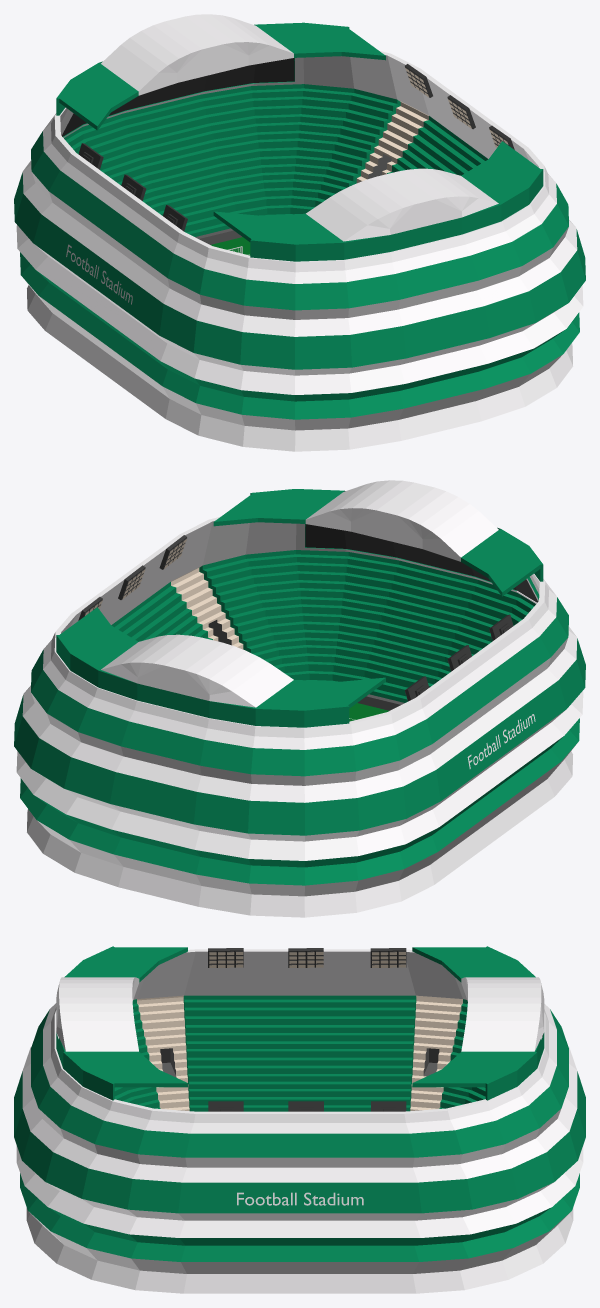
File: stadeSansCage.glb
3 renders of one model, top to bottom at view 1: azimuth 30°, elevation 25°; view 2: azimuth 150°, elevation 25°; view 3: azimuth 270°, elevation 25°, orthographic. The views are drawn at different scales.
Parts seen in each view (by area): view 1: Football Stadium; view 2: Football Stadium; view 3: Football Stadium, Object.004_Color_0, Object.005_Color_0, Object.006_Color_0.
Part boxes in pixels (x1=…): Football Stadium: x1=14, y1=14, x2=585, y2=451; Football Stadium: x1=14, y1=480, x2=585, y2=917; Football Stadium: x1=14, y1=946, x2=585, y2=1293; Object.004_Color_0: x1=370, y1=948, x2=406, y2=967; Object.005_Color_0: x1=288, y1=948, x2=323, y2=967; Object.006_Color_0: x1=208, y1=948, x2=243, y2=967.
Bounding box in the file's own units: 203 × 103 × 256.
1 material, 1 textured.
